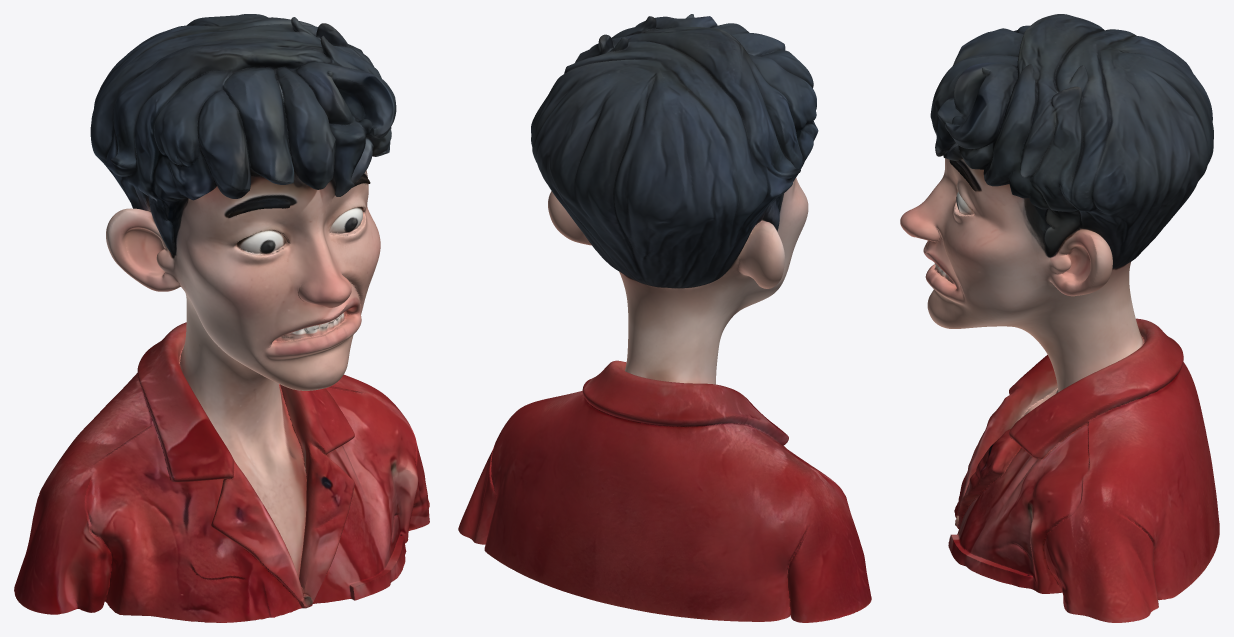
The model's file is base_basic_pbr.glb.
3 views of the same model, side by side, from view 1: azimuth 30°, elevation 25°; view 2: azimuth 150°, elevation 25°; view 3: azimuth 270°, elevation 25° (orthographic). The views are drawn at different scales.
Parts seen in each view (by area): view 1: model; view 2: model; view 3: model.
Part boxes in pixels (box(x1,y1,x2,y2)): model: box(14, 14, 429, 622); model: box(458, 14, 871, 622); model: box(900, 14, 1219, 622).
Bounding box in the file's own units: 1.47 × 1.82 × 1.06.
1 material, 1 textured.
